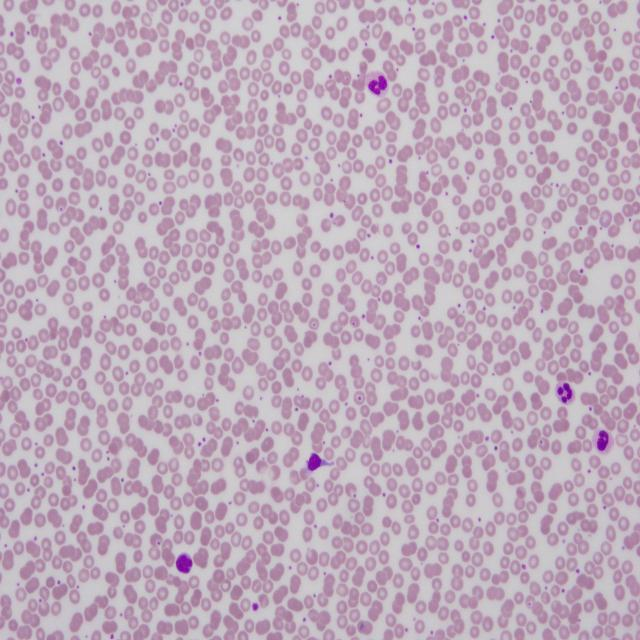cell: (365, 70, 389, 97), (555, 382, 575, 405)
